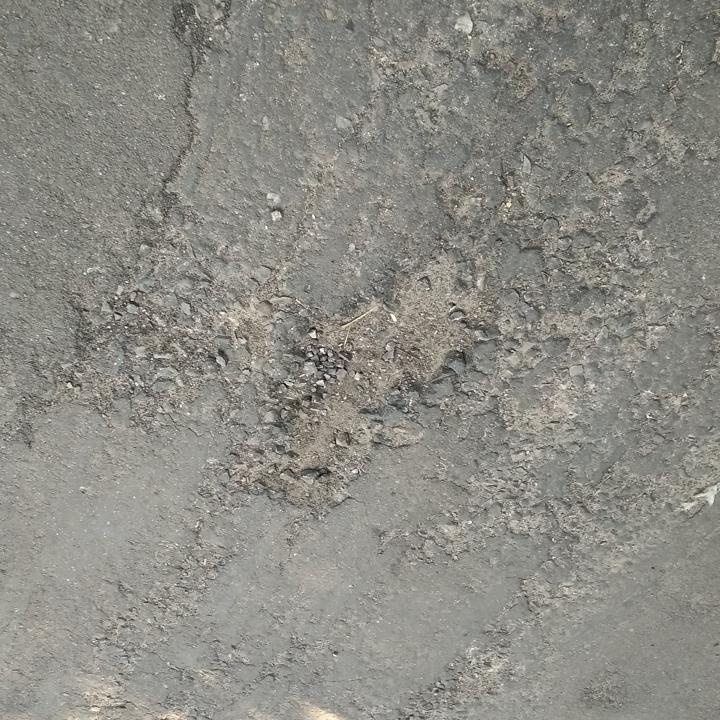pothole: (217, 256, 493, 524)
